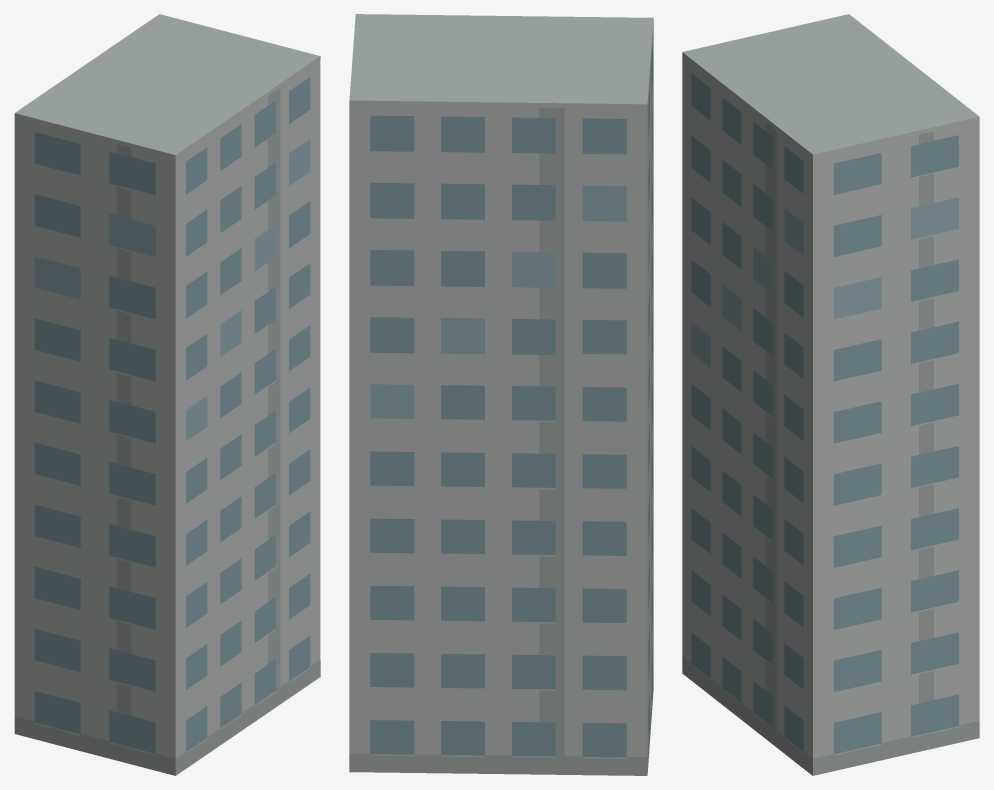
The model's file is residential-a3006e13-f5db-4a4a-b2bb-95b28cb31621.glb.
3 renders of one model, left to right at view 1: azimuth 30°, elevation 25°; view 2: azimuth 150°, elevation 25°; view 3: azimuth 270°, elevation 25°, orthographic. The views are drawn at different scales.
Visible parts, largest first — view 1: residential-a3006e13-f5db-4a4a-b2bb-95b28cb31621.tmp; view 2: residential-a3006e13-f5db-4a4a-b2bb-95b28cb31621.tmp; view 3: residential-a3006e13-f5db-4a4a-b2bb-95b28cb31621.tmp.
Boxes of the visible parts, x1=… form: residential-a3006e13-f5db-4a4a-b2bb-95b28cb31621.tmp: x1=14, y1=14, x2=320, y2=775; residential-a3006e13-f5db-4a4a-b2bb-95b28cb31621.tmp: x1=349, y1=14, x2=653, y2=775; residential-a3006e13-f5db-4a4a-b2bb-95b28cb31621.tmp: x1=682, y1=14, x2=979, y2=775.
Bounding box in the file's own units: 16.99 × 35 × 15.19.
